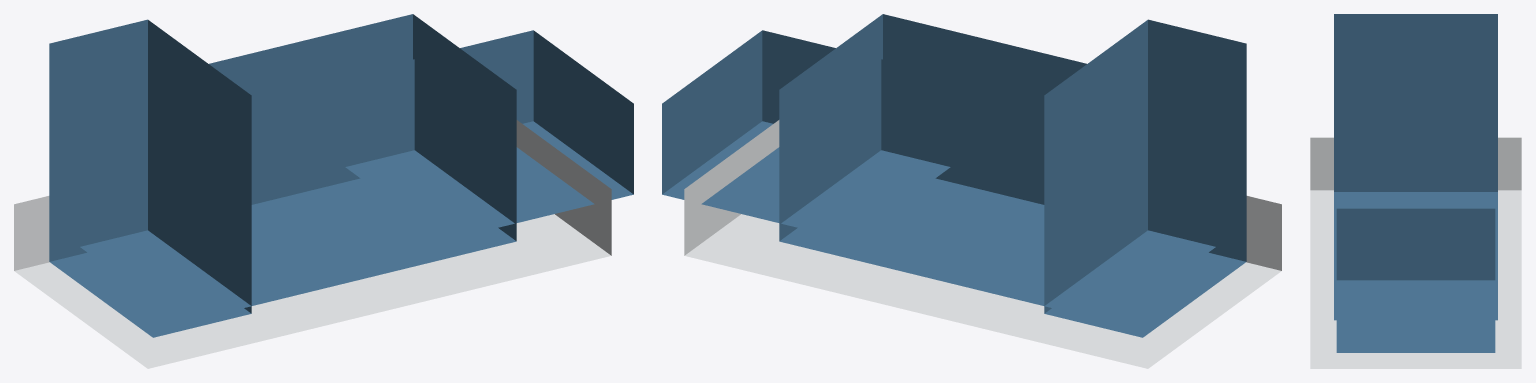
Rendered from pulse-layer.gltf.
3 renders of one model, left to right at view 1: azimuth 30°, elevation 25°; view 2: azimuth 150°, elevation 25°; view 3: azimuth 270°, elevation 25°, orthographic. The views are drawn at different scales.
Visible parts, largest first — view 1: Upper, Heel, Toe, Sole; view 2: Upper, Heel, Toe, Sole; view 3: Toe, Upper, Sole, Heel.
Boxes of the visible parts, <box> form: Upper: <box>80,14,516,322</box>; Heel: <box>49,19,251,337</box>; Toe: <box>345,30,633,240</box>; Sole: <box>14,120,611,368</box>; Upper: <box>779,14,1215,322</box>; Heel: <box>1044,19,1246,337</box>; Toe: <box>662,30,950,240</box>; Sole: <box>684,120,1281,368</box>; Toe: <box>1336,208,1495,352</box>; Upper: <box>1334,72,1497,320</box>; Sole: <box>1310,137,1521,368</box>; Heel: <box>1334,14,1497,72</box>.
Size of the model in its own units: 3.47 by 1.54 by 1.6.
